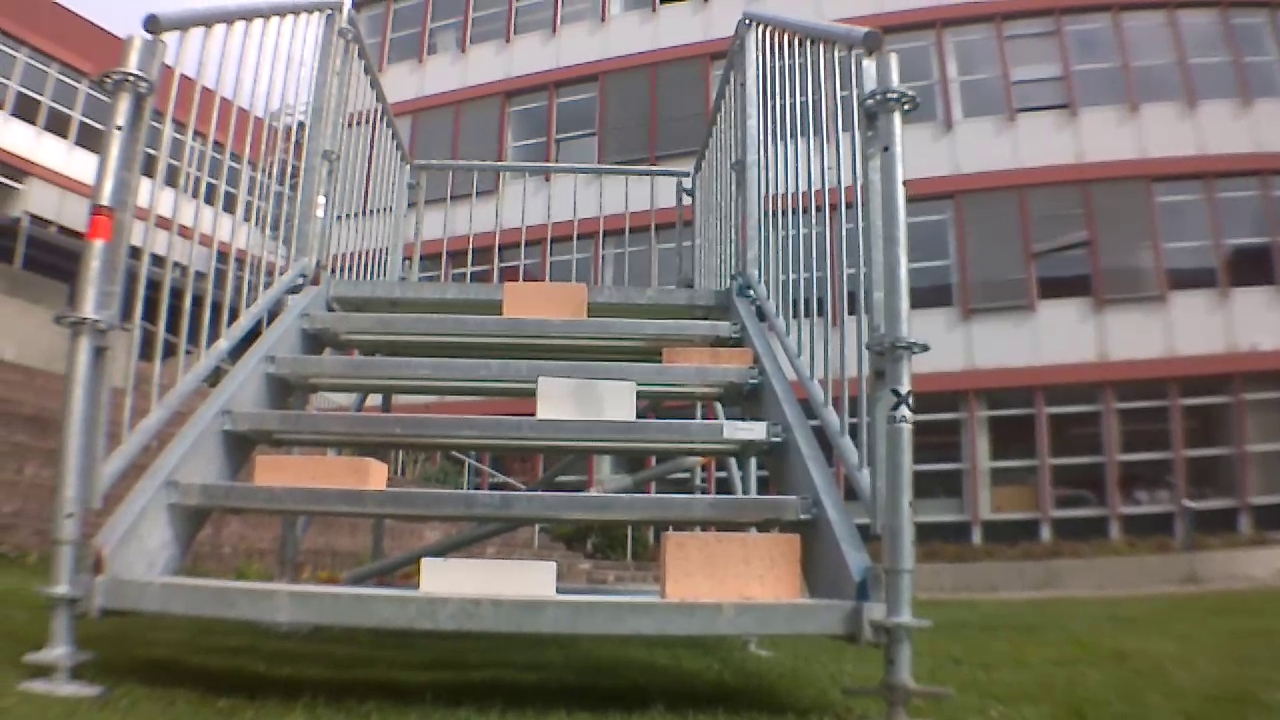brick: (663, 534, 799, 601), (420, 557, 555, 598), (534, 376, 635, 420), (257, 455, 386, 488), (502, 282, 587, 317), (661, 346, 751, 366)
edge: (99, 578, 856, 633), (169, 482, 818, 519), (223, 408, 784, 442), (266, 355, 764, 384), (331, 279, 729, 305), (299, 313, 745, 336)
stairs: (22, 2, 940, 718)
steps: (94, 272, 863, 645)
